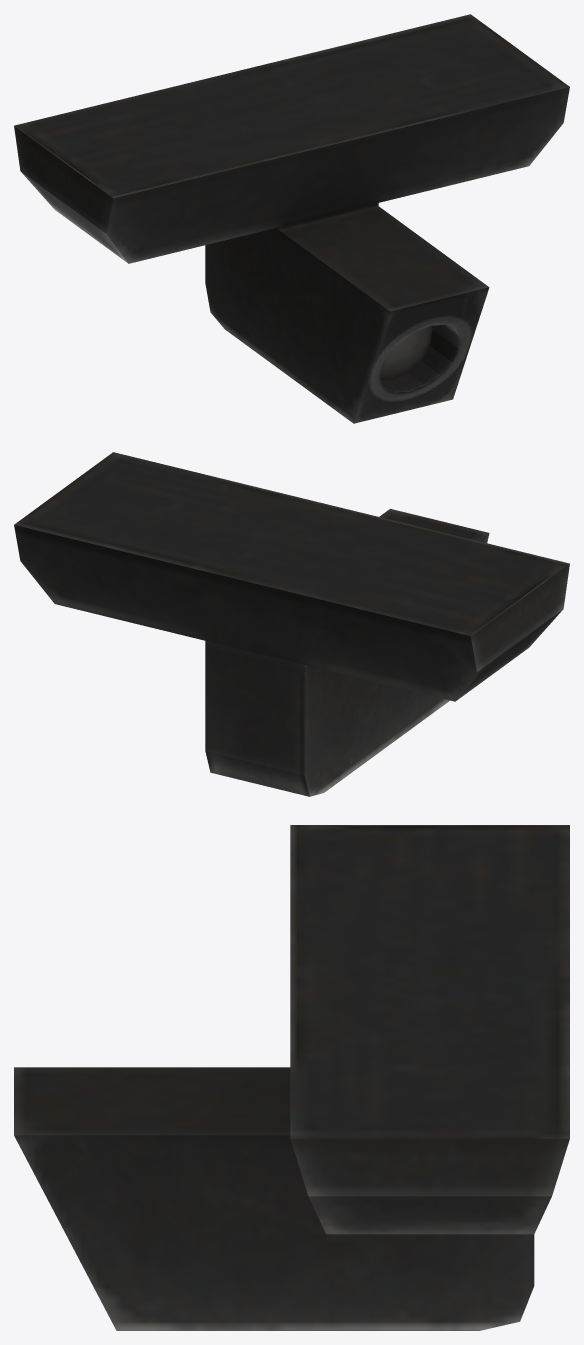
3 views of the same model, one above another, from view 1: azimuth 30°, elevation 25°; view 2: azimuth 150°, elevation 25°; view 3: azimuth 270°, elevation 25° (orthographic). The views are drawn at different scales.
Visible parts, largest first — view 1: TW_6194f35c18a3974e5e7421e6_PZ_Import; view 2: TW_6194f35c18a3974e5e7421e6_PZ_Import; view 3: TW_6194f35c18a3974e5e7421e6_PZ_Import.
Part boxes in pixels (left/top/right/bottom): TW_6194f35c18a3974e5e7421e6_PZ_Import: left=14, top=14, right=569, bottom=423; TW_6194f35c18a3974e5e7421e6_PZ_Import: left=14, top=452, right=569, bottom=796; TW_6194f35c18a3974e5e7421e6_PZ_Import: left=14, top=825, right=569, bottom=1330.
Size of the model in its own units: 0.00844 by 0.00632 by 0.00395.
Materials: 1 (1 with a texture image).
